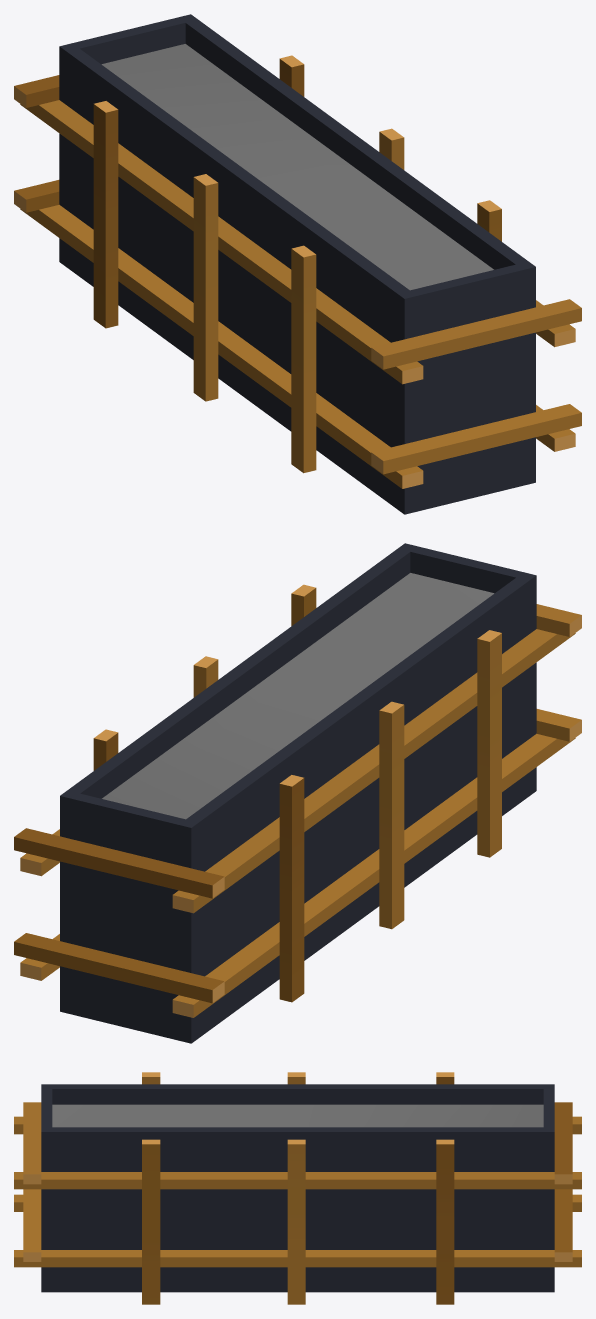
Rendered from ConcrateFrame_2_1.fbx.
3 views of the same model, one above another, from view 1: azimuth 30°, elevation 25°; view 2: azimuth 150°, elevation 25°; view 3: azimuth 270°, elevation 25° (orthographic). The views are drawn at different scales.
Visible parts, largest first — view 1: ConcrateFrame_2_1; view 2: ConcrateFrame_2_1; view 3: ConcrateFrame_2_1.
Boxes of the visible parts, x1,y1,x2,y2 form: ConcrateFrame_2_1: (14,14,581,514); ConcrateFrame_2_1: (14,543,581,1043); ConcrateFrame_2_1: (14,1072,581,1304).
Bounding box in the file's own units: 139 × 144 × 463.
